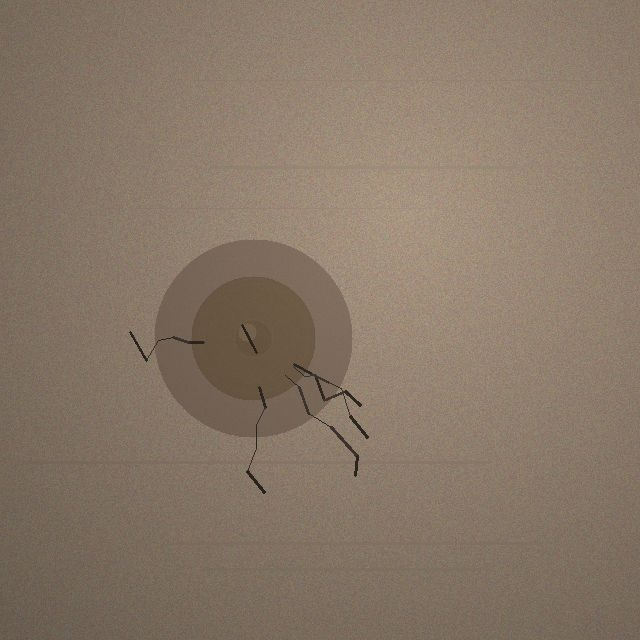crack: (154, 239, 352, 437)
